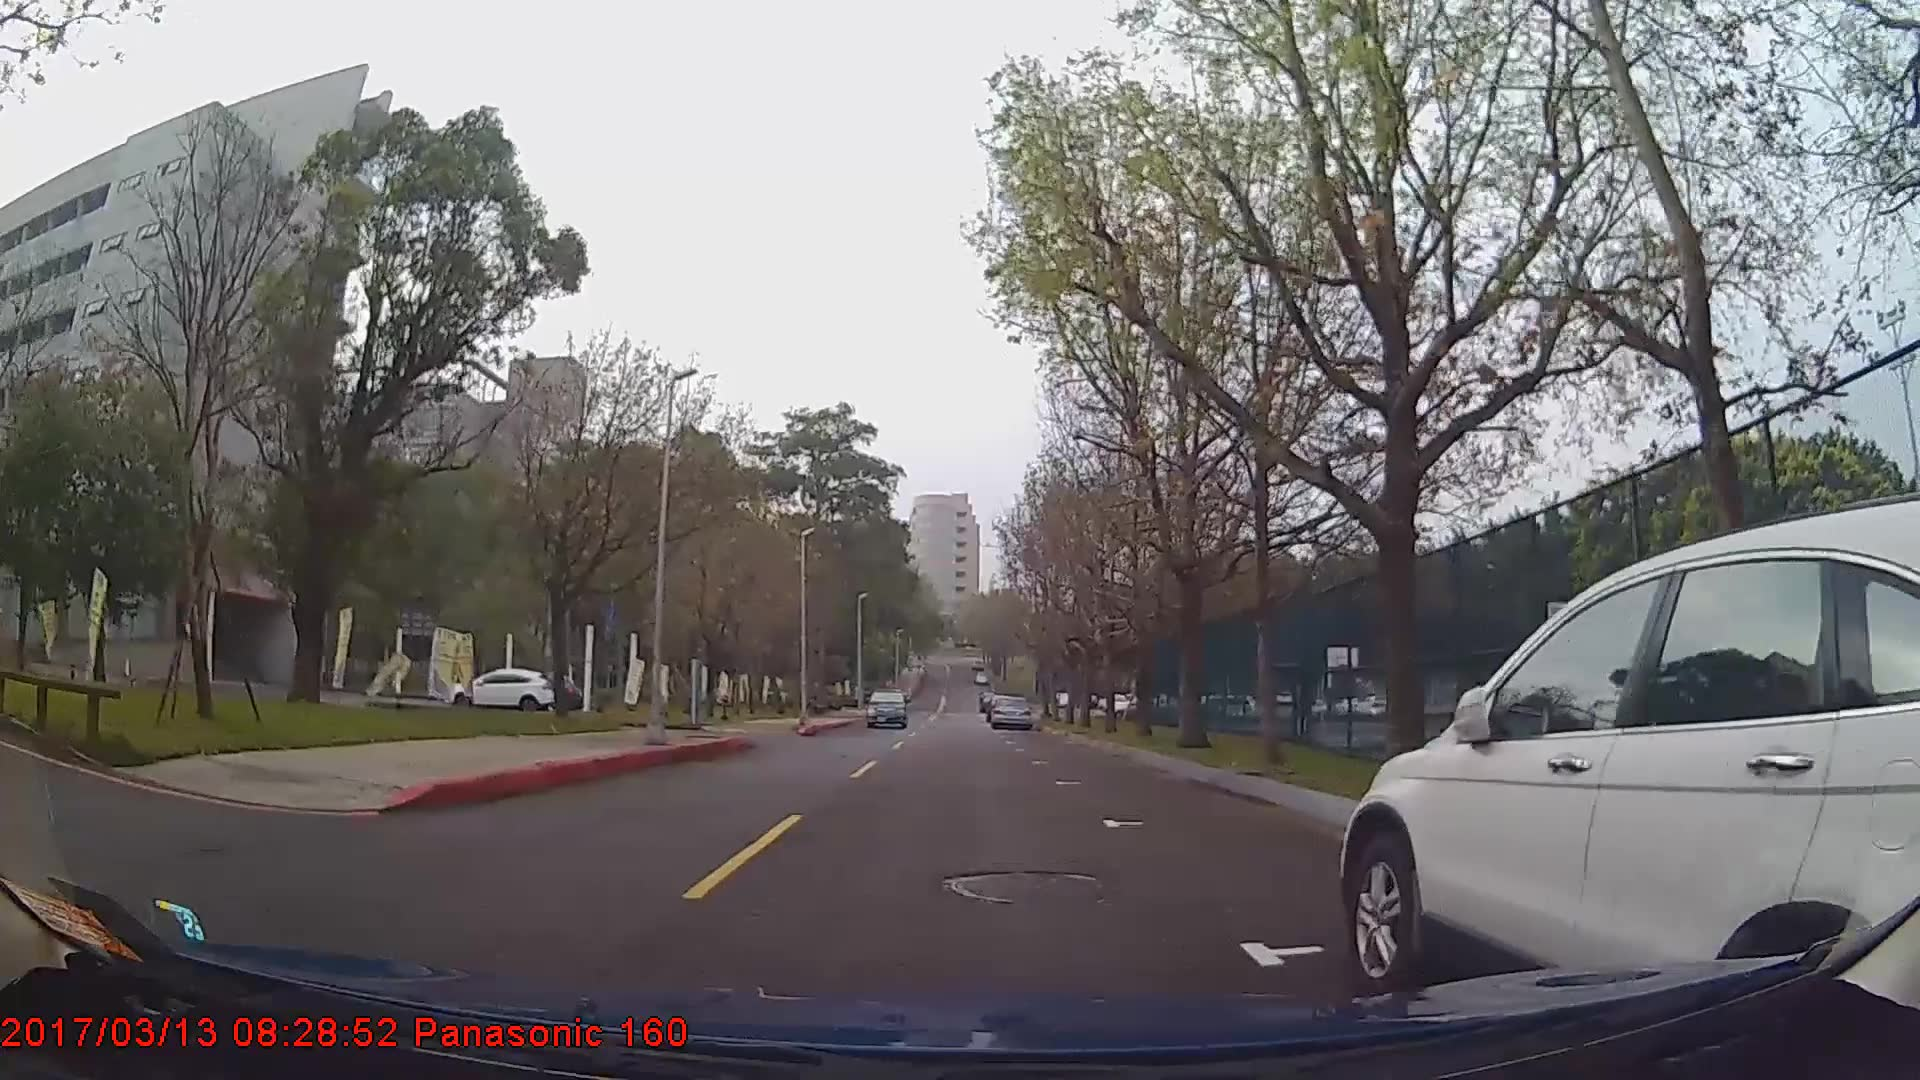vehicle: (1338, 491, 1909, 1031), (451, 666, 559, 713), (866, 686, 909, 728), (989, 692, 1033, 731)
